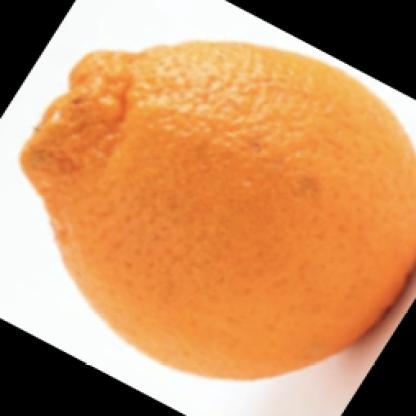fresh: (24, 42, 416, 383)
